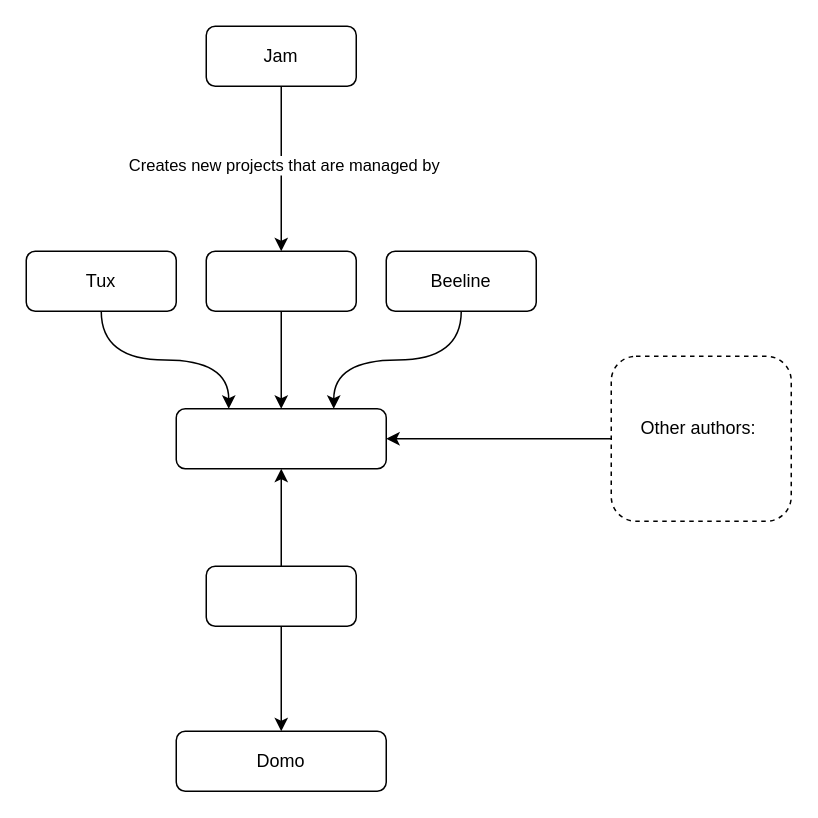
The diagram is 818 pixels wide and 818 high, and some of its shapes have lost their labels. The shapes that lost their labels are listed below. From the top down, each one's centre as x and y in pixels, then its label:
At (x=280, y=280): "Gud".
At (x=280, y=438): "Dotfiles".
At (x=280, y=595): "Dropbear".
